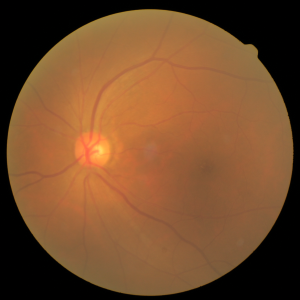cataract: (33, 87, 239, 206)
